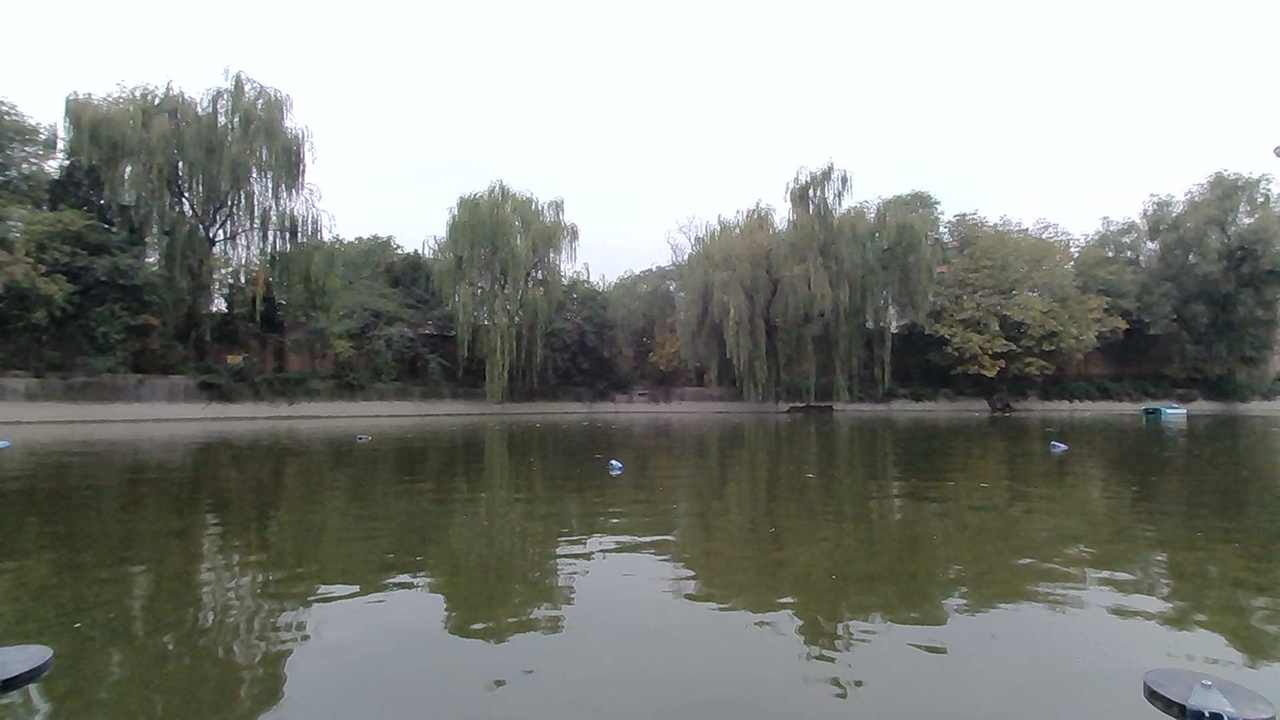bottle: (582, 452, 627, 479), (368, 423, 401, 446), (1043, 434, 1074, 458)
